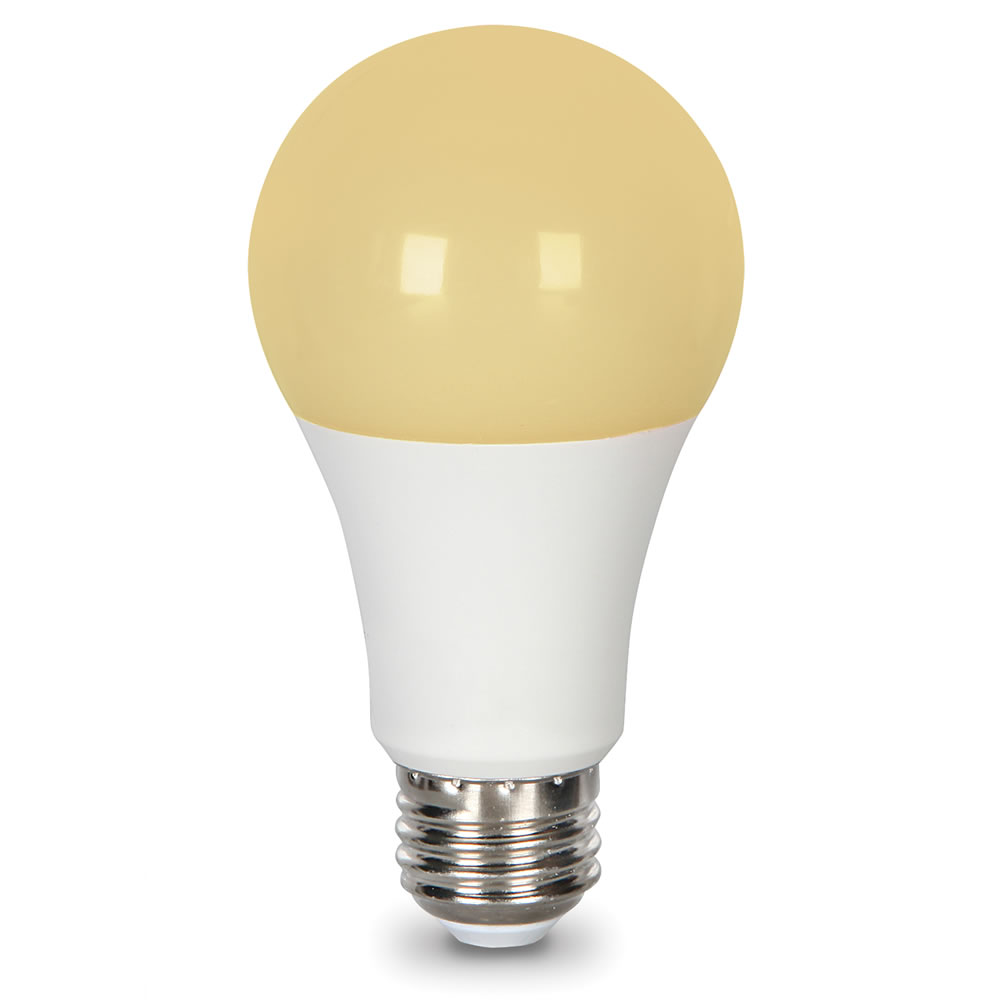Nonrec_Glass: (241, 12, 746, 963)
